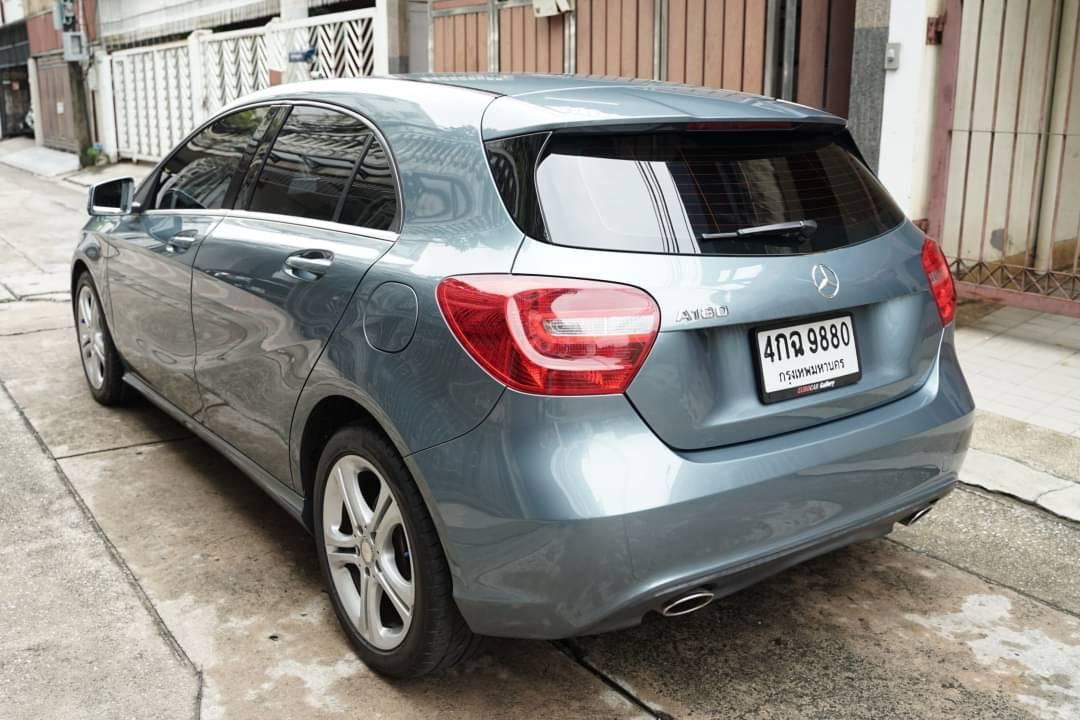license-plate: (749, 309, 862, 405)
